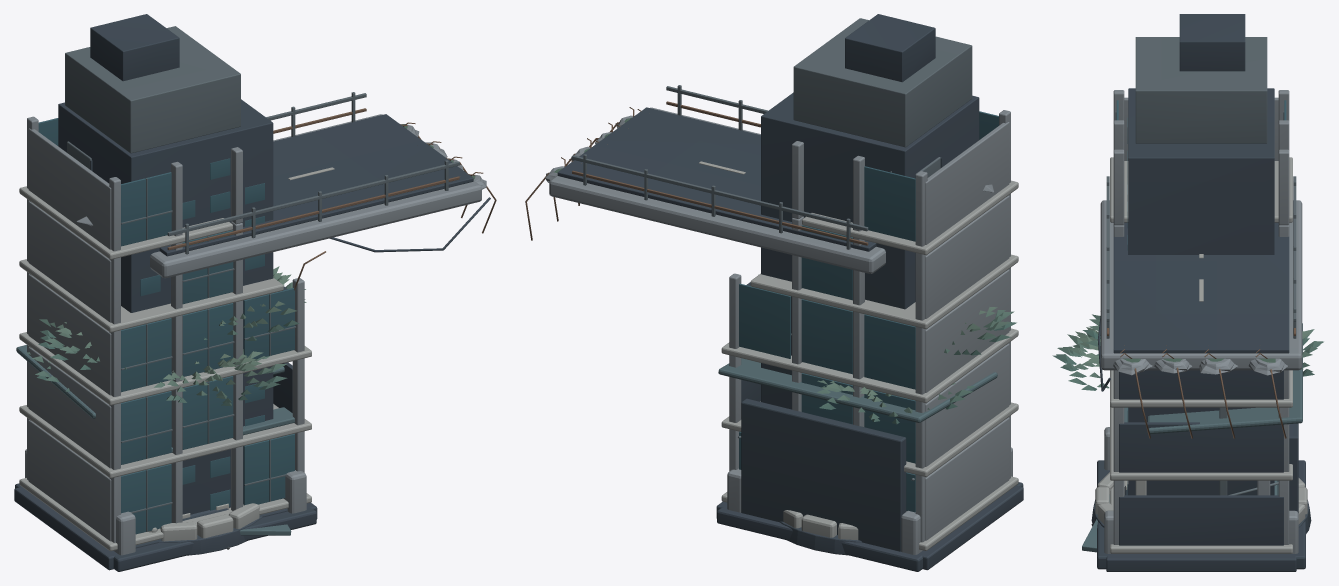
The model's file is city-rupture-kit-B433WFHw.glb.
3 renders of one model, left to right at view 1: azimuth 30°, elevation 25°; view 2: azimuth 150°, elevation 25°; view 3: azimuth 270°, elevation 25°, orthographic.
Parts seen in each view (by area): view 1: office_shell_LOD0, skyline_LOD0, broken_viaduct_LOD0, metro_entrance_LOD0, split_tree_LOD0, breach_monument_LOD0, evac_arcade_LOD0; view 2: office_shell_LOD0, skyline_LOD0, broken_viaduct_LOD0, metro_entrance_LOD0, breach_monument_LOD0, split_tree_LOD0; view 3: office_shell_LOD0, skyline_LOD0, broken_viaduct_LOD0, metro_entrance_LOD0, split_tree_LOD0, breach_monument_LOD0, evac_arcade_LOD0.
Boxes of the visible parts, x1=… form: office_shell_LOD0: x1=14, y1=116, x2=325, y2=570; skyline_LOD0: x1=58, y1=14, x2=273, y2=514; broken_viaduct_LOD0: x1=135, y1=92, x2=496, y2=548; metro_entrance_LOD0: x1=15, y1=345, x2=316, y2=571; split_tree_LOD0: x1=26, y1=266, x2=306, y2=406; breach_monument_LOD0: x1=147, y1=503, x2=262, y2=555; evac_arcade_LOD0: x1=171, y1=407, x2=294, y2=535; office_shell_LOD0: x1=716, y1=110, x2=1023, y2=570; skyline_LOD0: x1=761, y1=14, x2=979, y2=409; broken_viaduct_LOD0: x1=525, y1=85, x2=885, y2=273; metro_entrance_LOD0: x1=717, y1=358, x2=1023, y2=571; breach_monument_LOD0: x1=780, y1=510, x2=861, y2=555; split_tree_LOD0: x1=758, y1=274, x2=1016, y2=424; office_shell_LOD0: x1=1106, y1=90, x2=1296, y2=571; skyline_LOD0: x1=1127, y1=14, x2=1274, y2=495; broken_viaduct_LOD0: x1=1097, y1=176, x2=1302, y2=438; metro_entrance_LOD0: x1=1097, y1=323, x2=1305, y2=569; split_tree_LOD0: x1=1052, y1=314, x2=1323, y2=390; breach_monument_LOD0: x1=1091, y1=472, x2=1311, y2=533; evac_arcade_LOD0: x1=1082, y1=407, x2=1270, y2=552.
Size of what is drawn, in the model's own units: 13.56 by 14.77 by 7.44.
